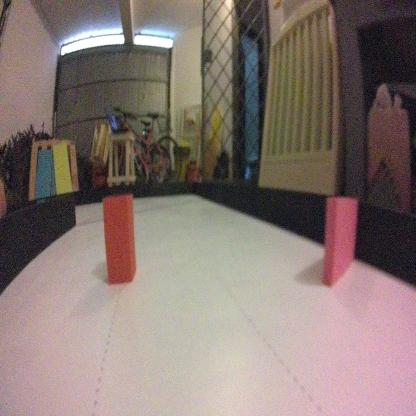magenta: (320, 192, 358, 289)
red: (100, 186, 137, 288)
